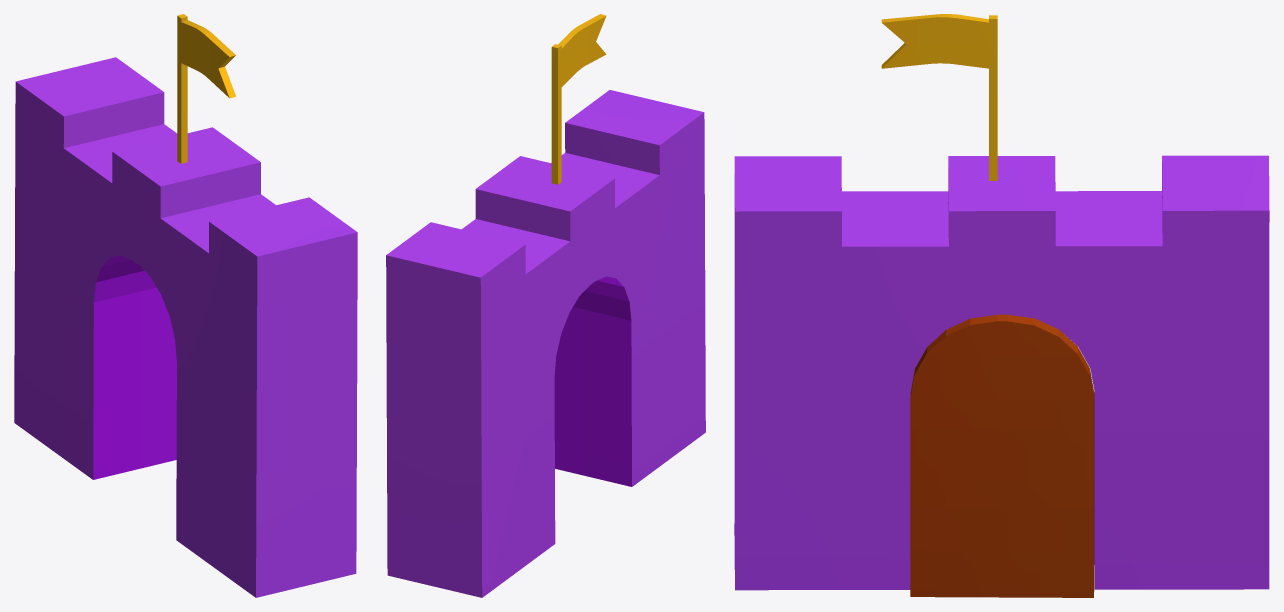
Rendered from Tower_4.fbx.
3 renders of one model, left to right at view 1: azimuth 30°, elevation 25°; view 2: azimuth 150°, elevation 25°; view 3: azimuth 270°, elevation 25°, orthographic. The views are drawn at different scales.
Parts seen in each view (by area): view 1: Cube.139, Cube.140; view 2: Cube.139, Cube.140; view 3: Cube.139, Cube.138, Cube.140.
Boxes of the visible parts, x1,y1,x2,y2 form: Cube.139: (14,57,357,597); Cube.140: (177,14,235,163); Cube.139: (386,90,705,597); Cube.140: (551,14,606,184); Cube.139: (734,155,1269,590); Cube.138: (910,314,1094,597); Cube.140: (881,14,997,180).
Size of the model in its own units: 162 by 654 by 583.
